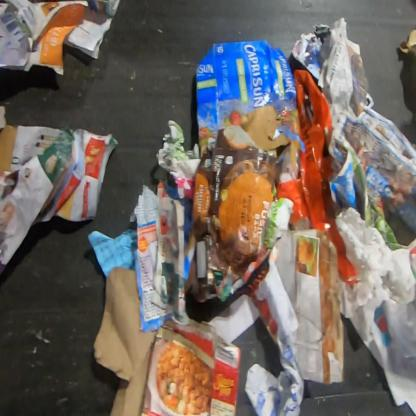cardboard: (186, 126, 278, 303), (196, 40, 305, 183), (141, 318, 238, 416), (94, 266, 155, 416), (0, 126, 19, 175), (397, 30, 416, 58)
soft_plastic: (276, 68, 358, 284)
